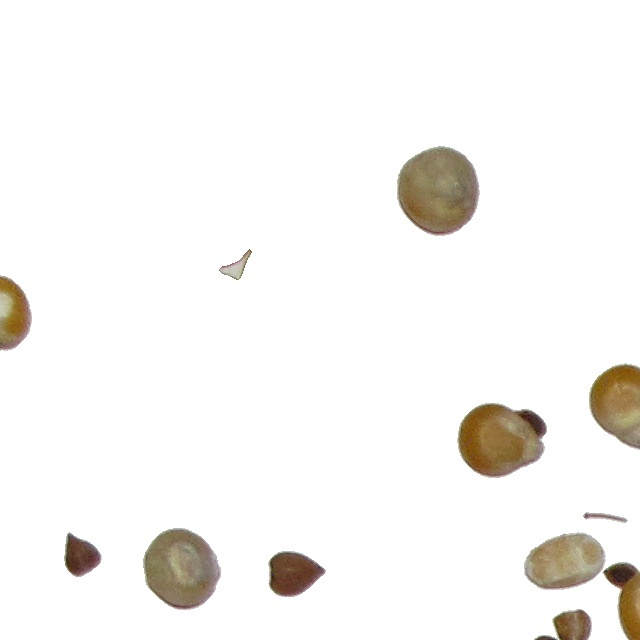buckwheat: (267, 550, 327, 598), (525, 608, 593, 640), (63, 531, 103, 578)
dill: (582, 511, 629, 524)
mais: (396, 145, 481, 237), (456, 402, 548, 479), (142, 527, 222, 611), (588, 362, 640, 453), (601, 561, 640, 640)
other: (523, 531, 607, 591), (218, 248, 253, 281)
